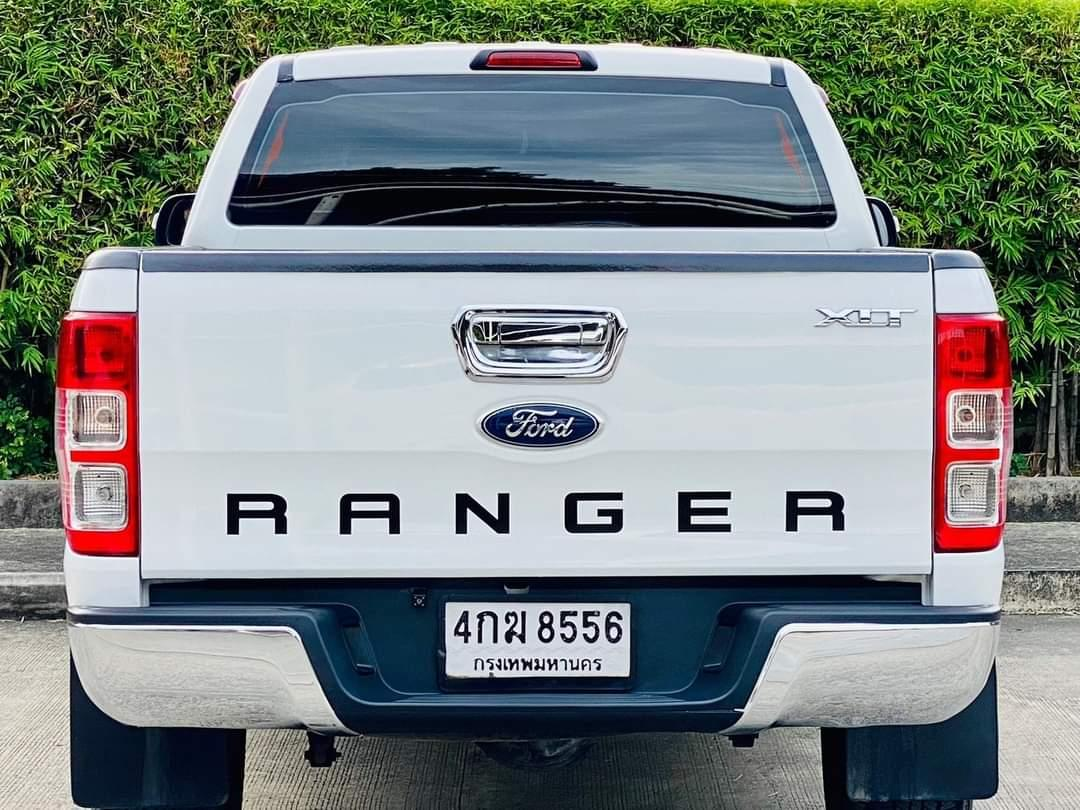license-plate: (435, 595, 637, 693)
